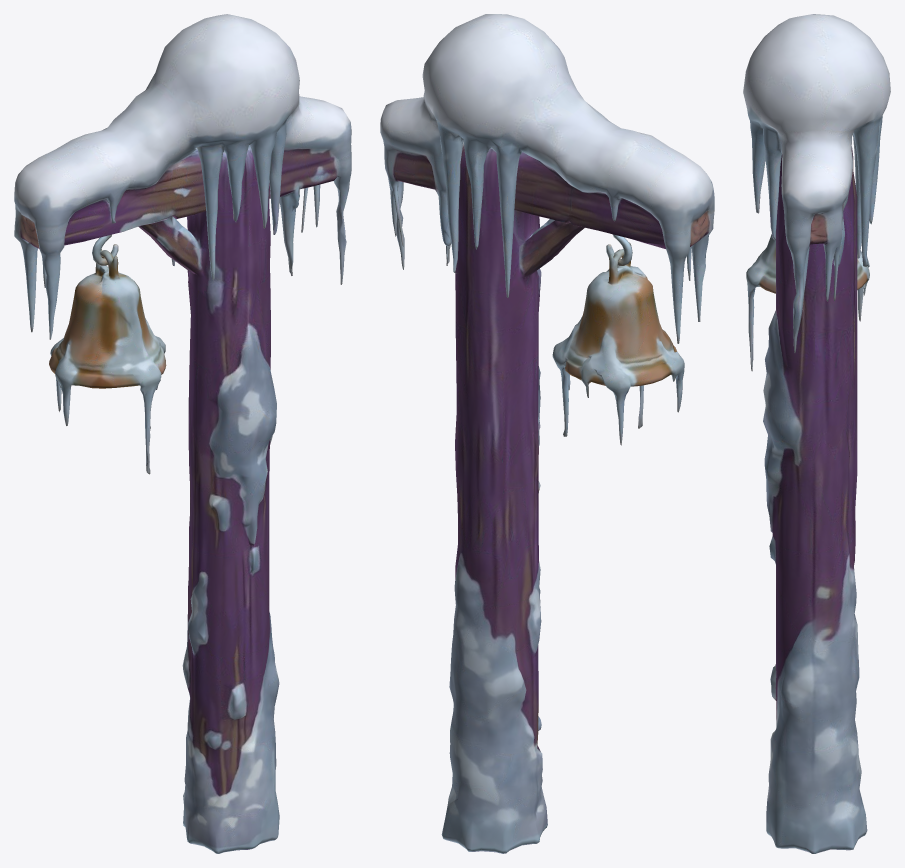
File: pillar_a.glb
3 views of the same model, side by side, from view 1: azimuth 30°, elevation 25°; view 2: azimuth 150°, elevation 25°; view 3: azimuth 270°, elevation 25° (orthographic).
Parts seen in each view (by area): view 1: geometry_0; view 2: geometry_0; view 3: geometry_0.
Boxes of the visible parts, left/top/right/bottom form: geometry_0: left=14, top=14, right=351, bottom=853; geometry_0: left=380, top=14, right=714, bottom=853; geometry_0: left=743, top=14, right=890, bottom=853.
Bounding box in the file's own units: 0.396 × 0.9502 × 0.1562.
1 material, 1 textured.
